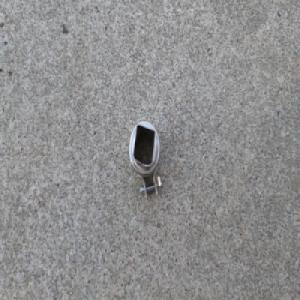MetalPart: (127, 119, 163, 204)
